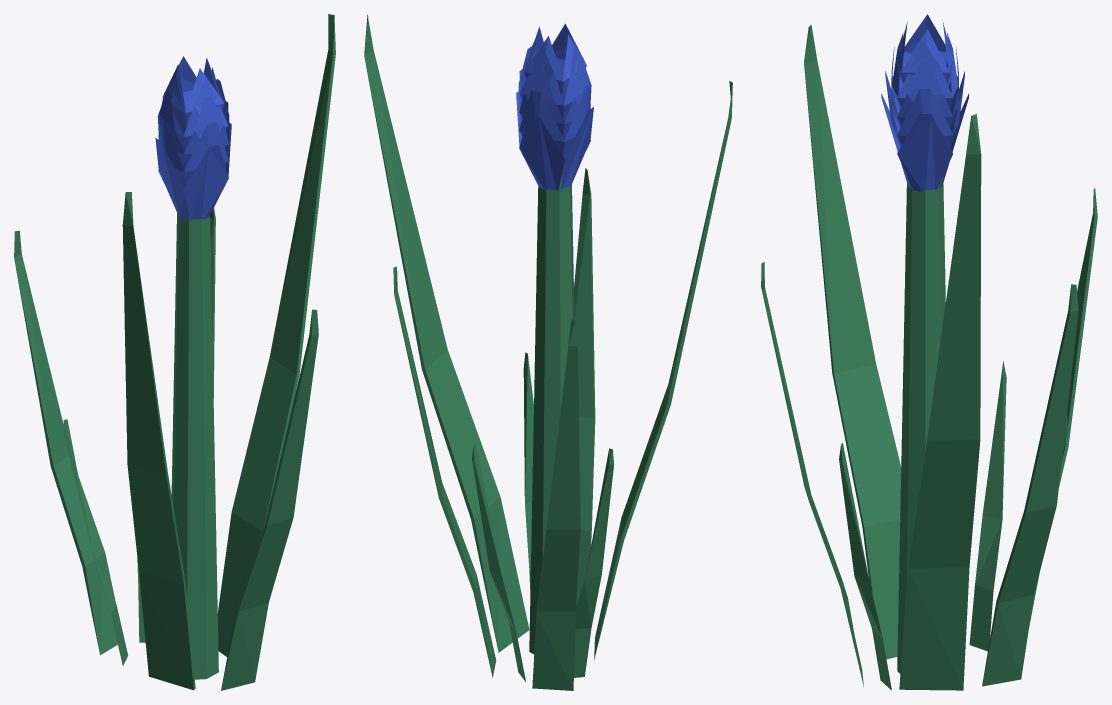
The model's file is flower_05.glb.
The picture shows the model from 3 angles, left to right: view 1: azimuth 30°, elevation 25°; view 2: azimuth 150°, elevation 25°; view 3: azimuth 270°, elevation 25°; orthographic projection. The views are drawn at different scales.
Visible parts, largest first — view 1: Object_108, Object_109; view 2: Object_108, Object_109; view 3: Object_108, Object_109.
Part boxes in pixels (box(x1,y1,x2,y2)): Object_108: box(14, 14, 335, 690); Object_109: box(155, 56, 231, 220); Object_108: box(364, 14, 732, 690); Object_109: box(516, 23, 593, 191); Object_108: box(761, 25, 1097, 690); Object_109: box(881, 14, 968, 191).
Bounding box in the file's own units: 0.8385 × 1.71 × 0.8045.
